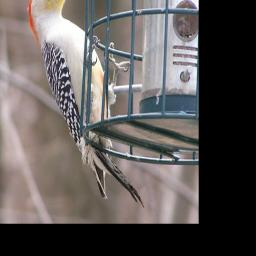Woodpecker: (25, 0, 145, 209)
